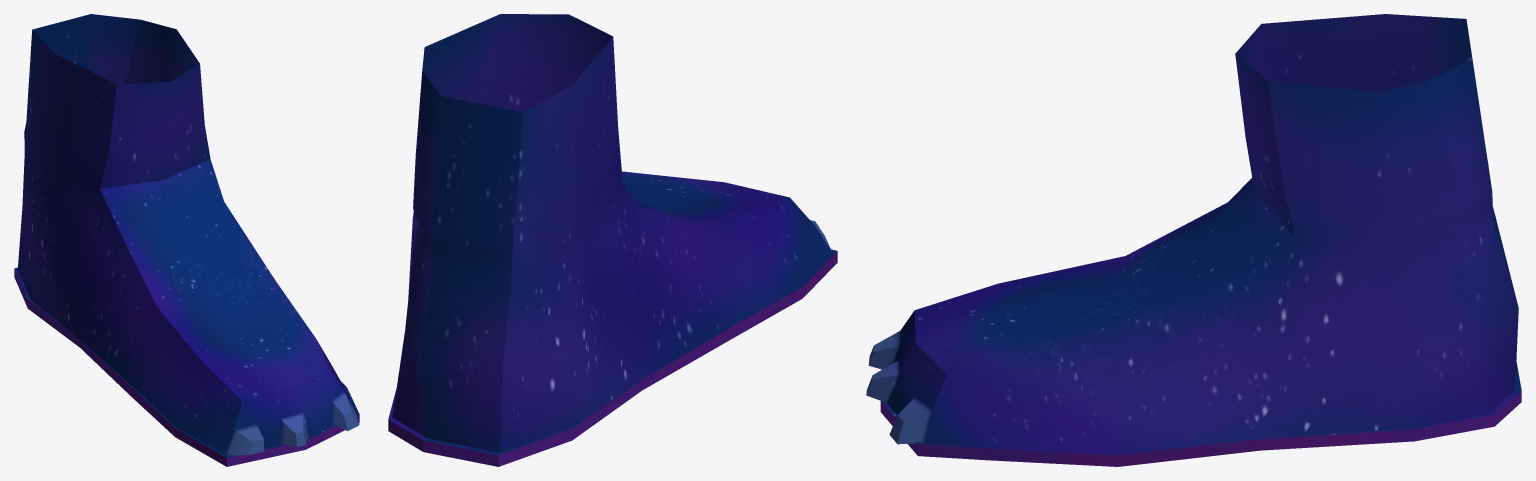
The model's file is dinoShoe_L.fbx.
3 views of the same model, side by side, from view 1: azimuth 30°, elevation 25°; view 2: azimuth 150°, elevation 25°; view 3: azimuth 270°, elevation 25° (orthographic). The views are drawn at different scales.
Visible parts, largest first — view 1: polySurface19; view 2: polySurface19; view 3: polySurface19.
Boxes of the visible parts, <box> form: polySurface19: <box>14,14,359,466</box>; polySurface19: <box>388,14,837,466</box>; polySurface19: <box>866,14,1521,466</box>.
Size of the model in its own units: 12.11 by 17.21 by 28.43.
Materials: 1 (1 with a texture image).
